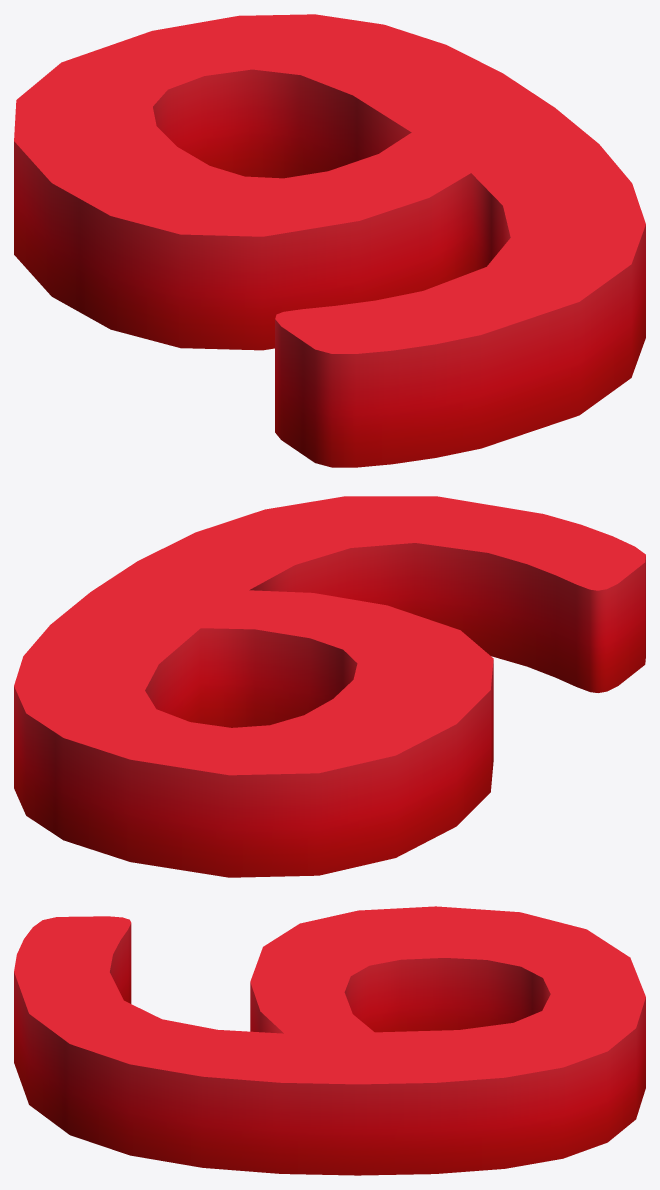
File: figure_9.fbx
3 views of the same model, one above another, from view 1: azimuth 30°, elevation 25°; view 2: azimuth 150°, elevation 25°; view 3: azimuth 270°, elevation 25° (orthographic). The views are drawn at different scales.
Parts seen in each view (by area): view 1: figure_9; view 2: figure_9; view 3: figure_9.
Part boxes in pixels (bbox=[...]): figure_9: bbox=[14, 14, 645, 467]; figure_9: bbox=[14, 496, 645, 877]; figure_9: bbox=[14, 906, 645, 1175].
Size of the model in its own units: 15.71 by 3.75 by 23.57.
